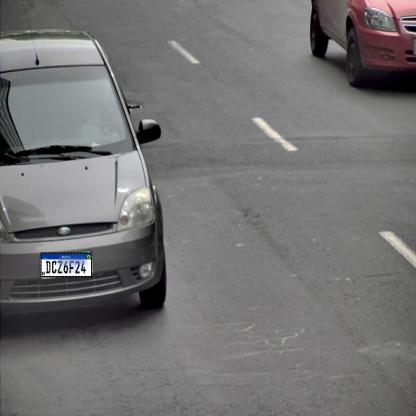PlacaM: (41, 252, 92, 277)
